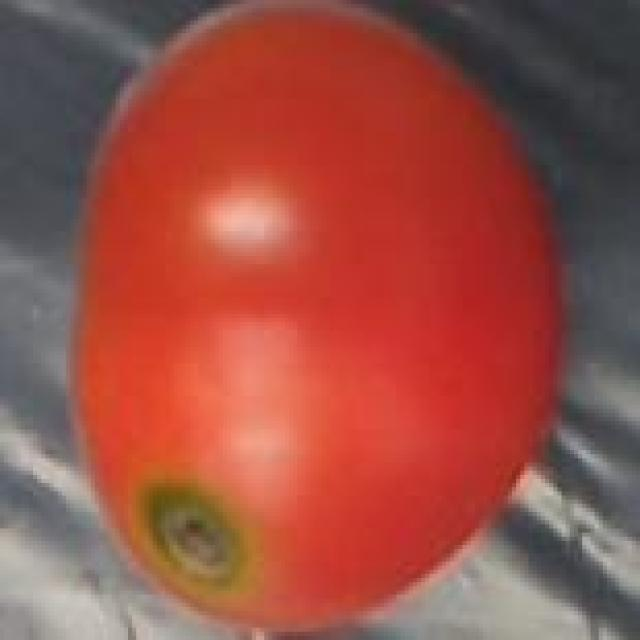overripe tomato: (54, 4, 578, 640)
